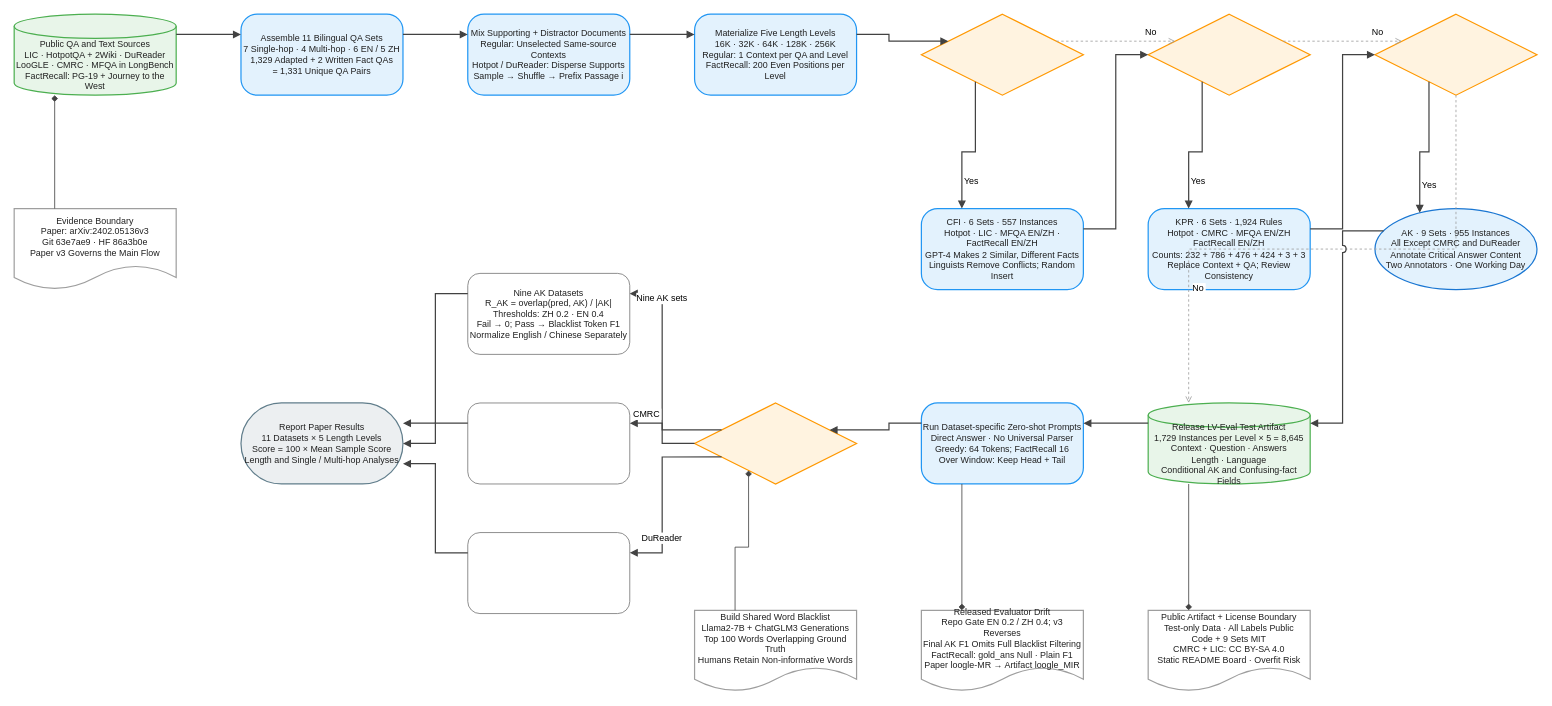
Some shapes in this 1552 by 706 pixel diagram are drawn without their labels. The shapes that lost their labels are listed below. From the top down, each one's centre as x and y in pixels, then its label:
At (1002,54): "CFI Set? Six Named Datasets".
At (1228,54): "KPR Set? Six Named Datasets".
At (1455,54): "AK Set? All Except Two".
At (548,443): "CMRC Only No Answer-keyword Gate Blacklist-aware Chinese Token F1".
At (775,443): "Paper v3 Metric Route?".
At (548,573): "DuReader Only No Answer-keyword Gate Blacklist-aware ROUGE-L".
